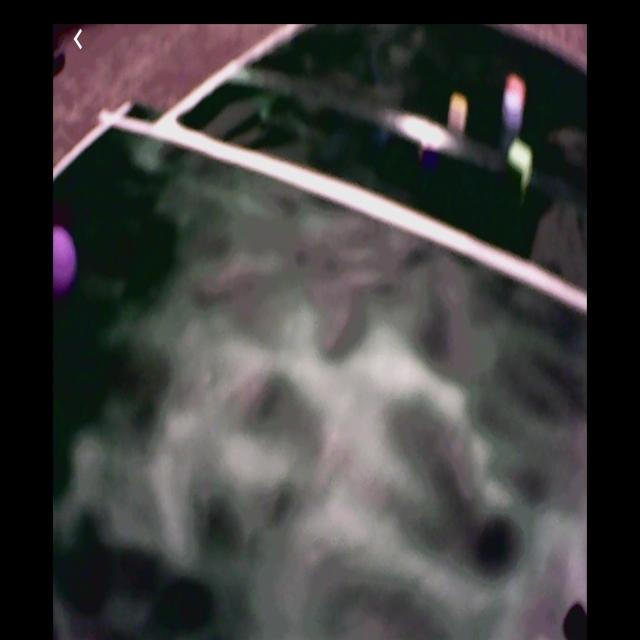ball: (55, 225, 78, 298)
